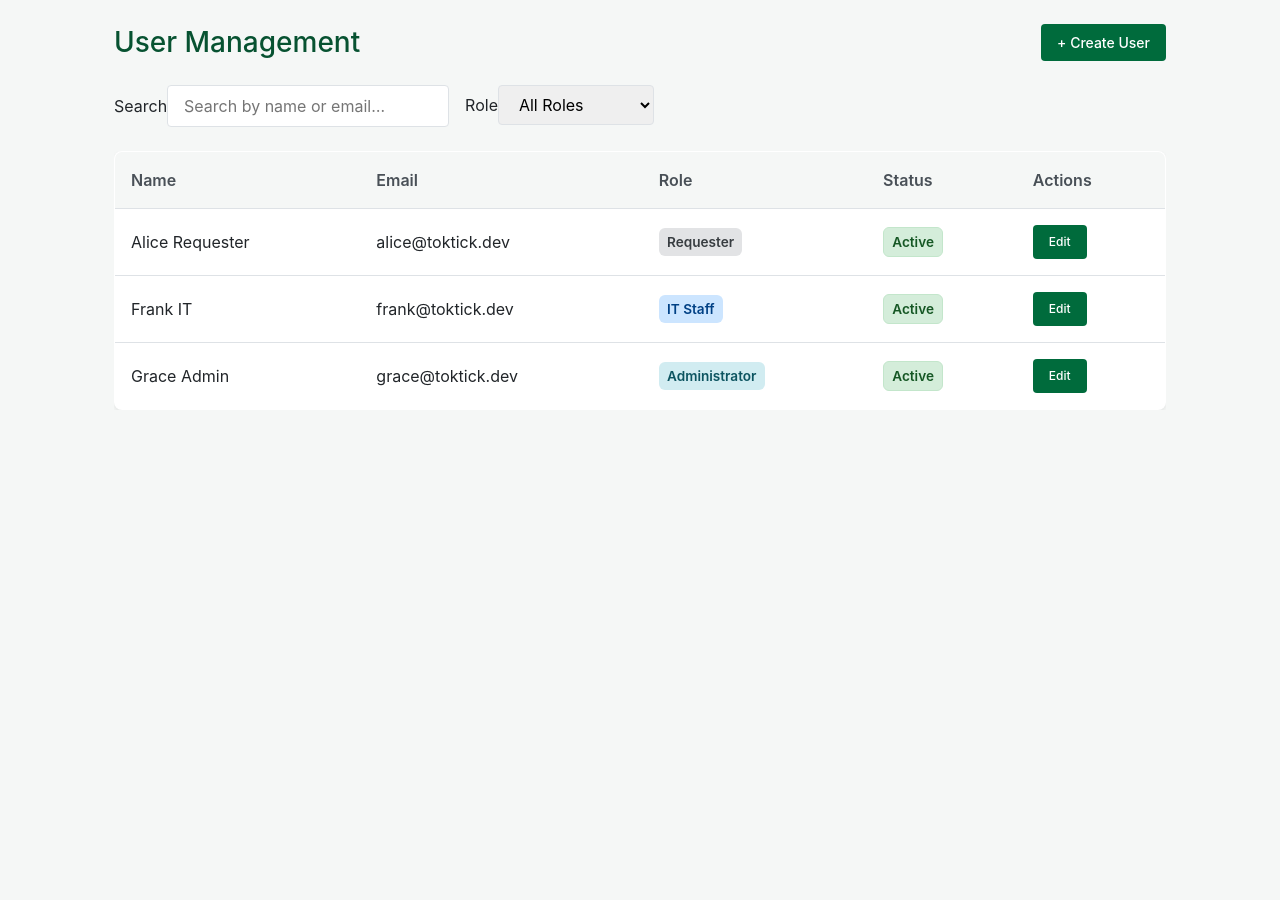
UserManagementPage › opens Create User modal on button click
Click the button with test id "create-user-btn".
click(1104, 42)  # box [1041, 24, 1166, 61]
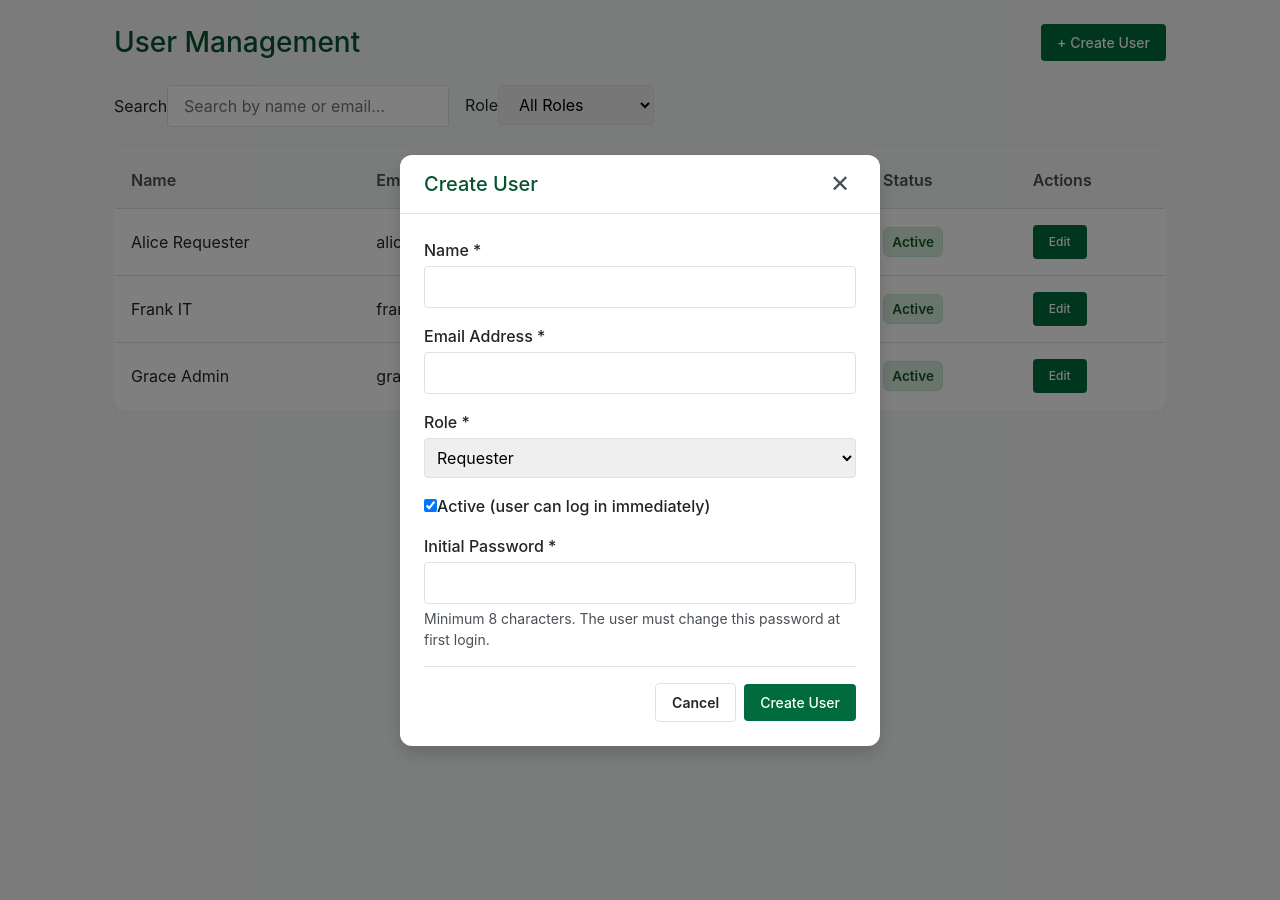
Check: the dialog "Create User" is shown
